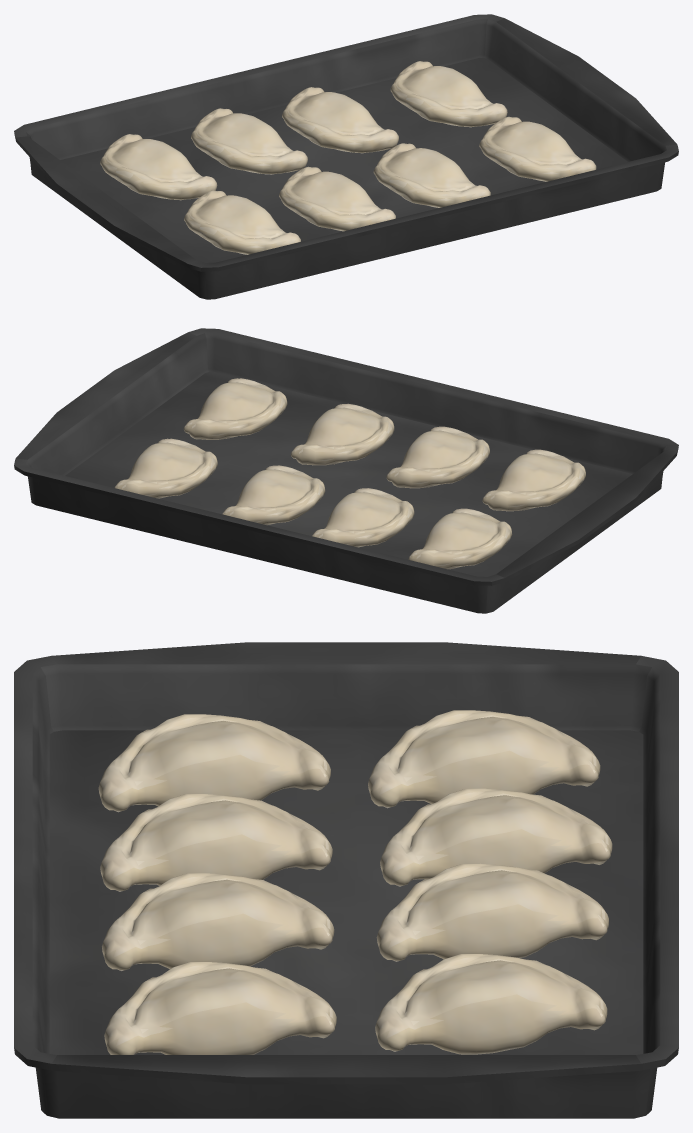
File: AL_EmpanadasDulcesTray.fbx
The picture shows the model from 3 angles, top to bottom: view 1: azimuth 30°, elevation 25°; view 2: azimuth 150°, elevation 25°; view 3: azimuth 270°, elevation 25°; orthographic projection. The views are drawn at different scales.
Parts seen in each view (by area): view 1: Untitled; view 2: Untitled; view 3: Untitled.
Part boxes in pixels (x1=…): Untitled: x1=14, y1=14, x2=678, y2=299; Untitled: x1=14, y1=328, x2=678, y2=613; Untitled: x1=14, y1=642, x2=678, y2=1118.
Bounding box in the file's own units: 0.7877 × 0.0903 × 1.22.
